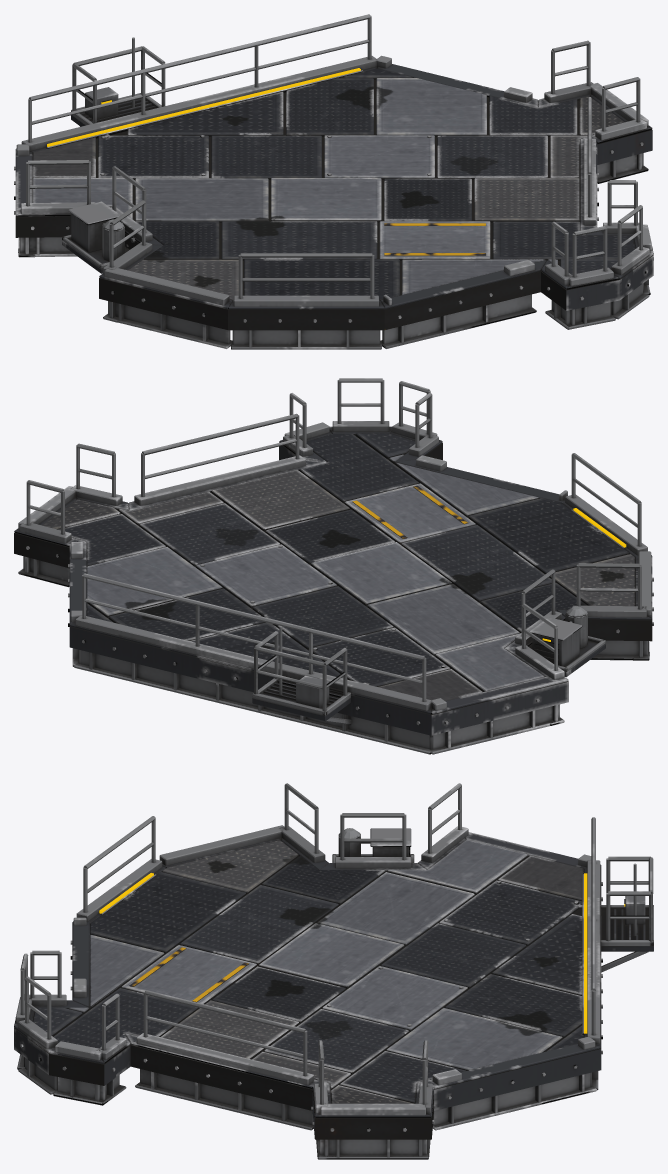
Rendered from nodexeus-set-deck-i.glb.
3 renders of one model, top to bottom at view 1: azimuth 30°, elevation 25°; view 2: azimuth 150°, elevation 25°; view 3: azimuth 270°, elevation 25°, orthographic. The views are drawn at different scales.
Visible parts, largest first — view 1: set-deck-i; view 2: set-deck-i; view 3: set-deck-i.
Boxes of the visible parts, box(x1,y1,x2,y2) form: set-deck-i: box(14, 14, 653, 349); set-deck-i: box(14, 378, 653, 754); set-deck-i: box(14, 783, 653, 1159).
Size of the model in its own units: 11.62 by 2.14 by 10.95.
Materials: 1 (1 with a texture image).
